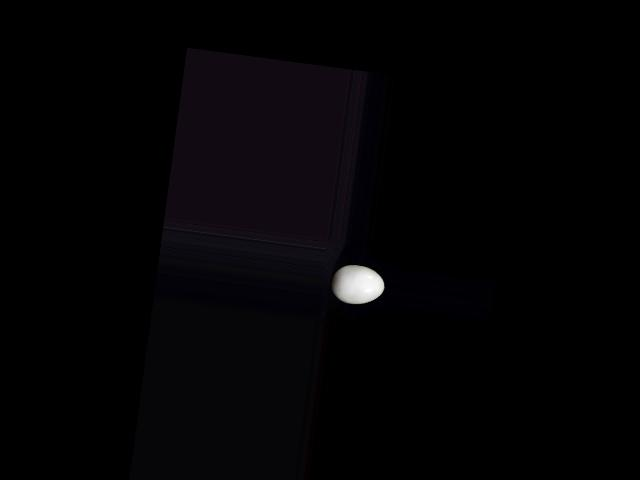egg: (328, 262, 386, 306)
